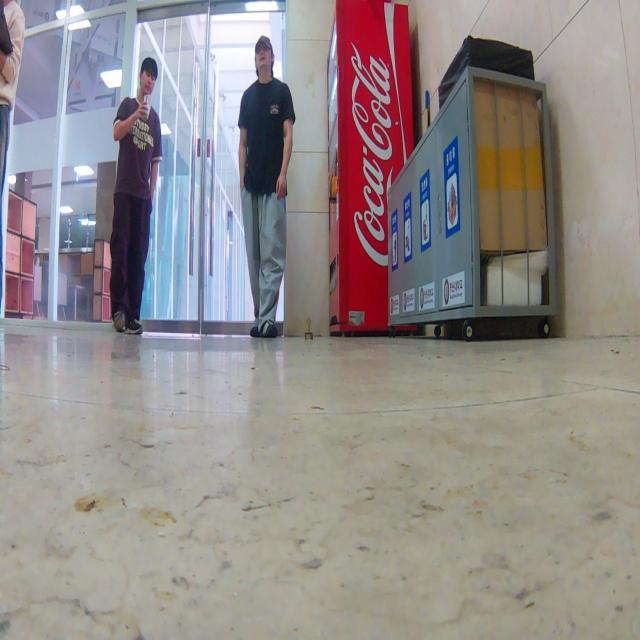target: (304, 318, 314, 340)
